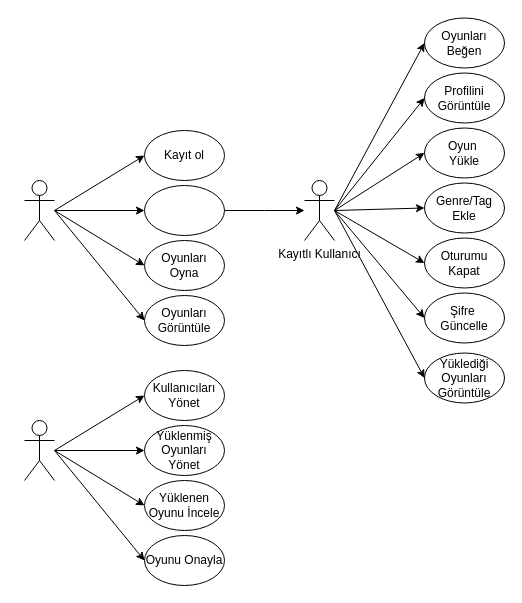
Image size: 522x603. Some labels were removed from this diagram. Each missing label, with the box of its shape:
Admin: (24, 420, 54, 480)
Giriş Yap: (144, 184, 224, 236)
Ziyaretci: (24, 180, 54, 240)
